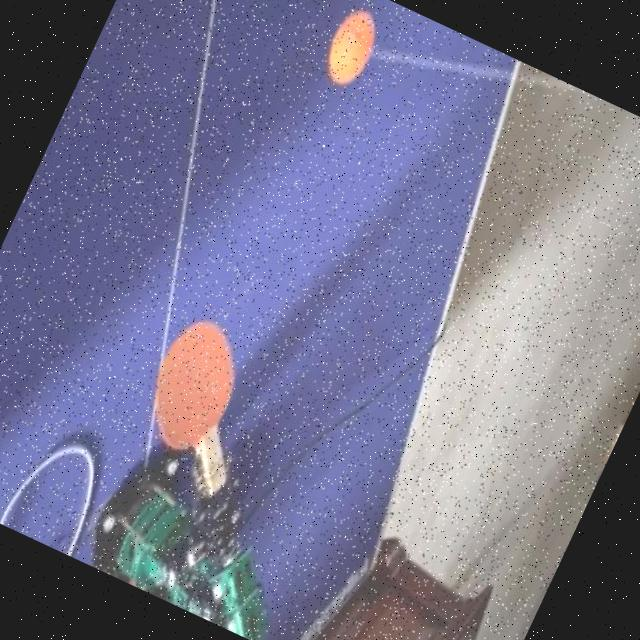ping-pong-ball: (318, 2, 387, 90)
